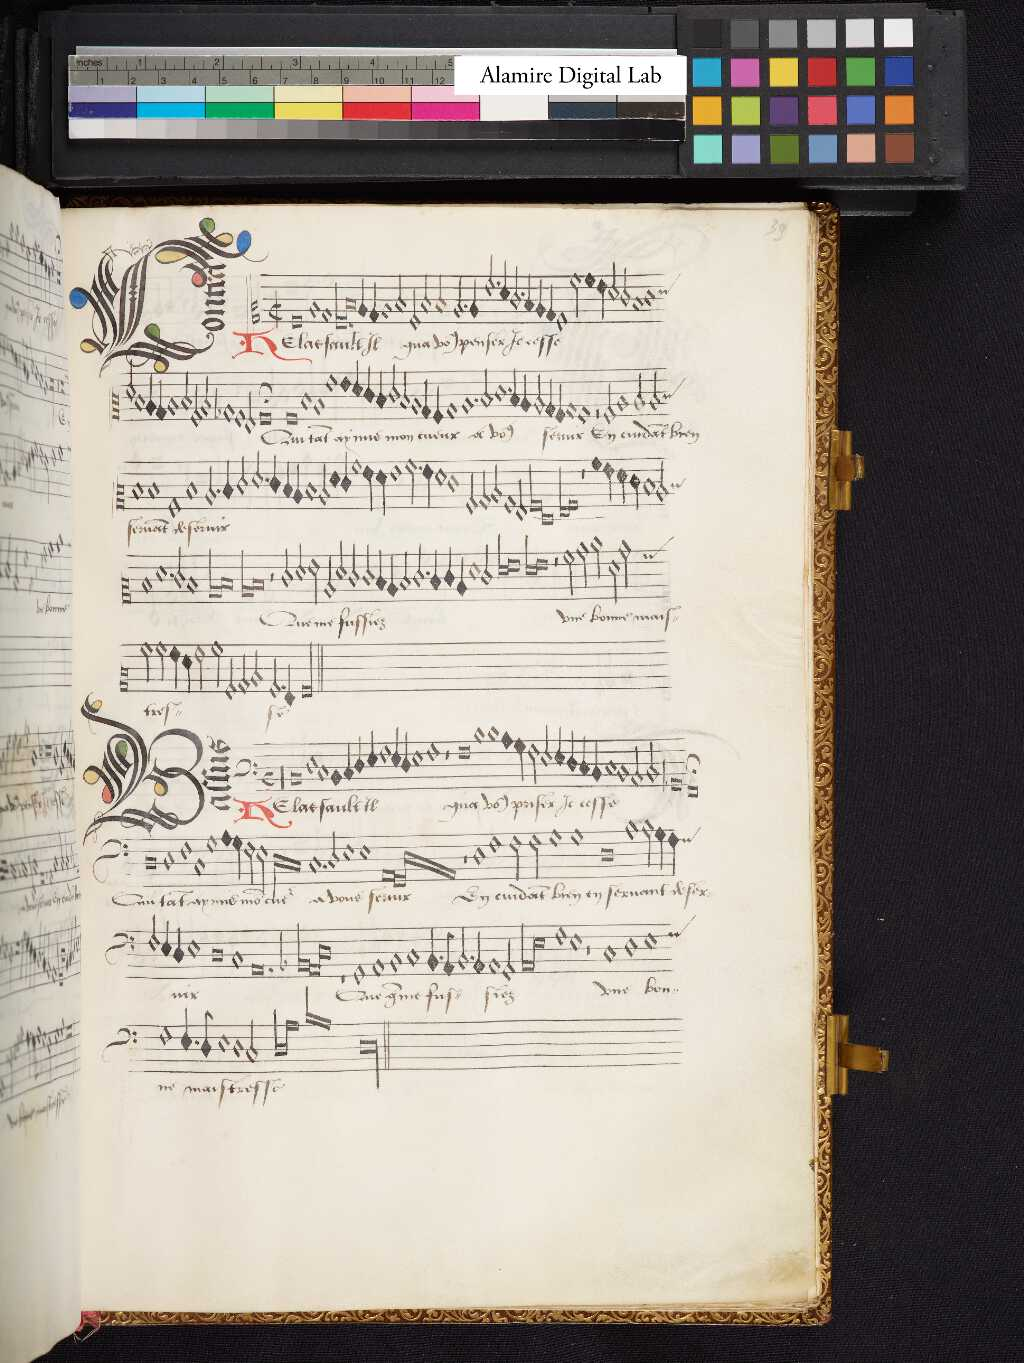Imin: (259, 765, 278, 792)
breve_11: (666, 769, 684, 800)
breve_12: (683, 776, 702, 806)
breve_5: (454, 735, 474, 766)
breve_9: (287, 759, 304, 792)
colored semibreve_3: (499, 721, 512, 755)
colored semibreve_9: (328, 759, 345, 793)
f clef_7: (233, 750, 261, 781)
fermata: (673, 736, 710, 784)
flat_11: (658, 753, 671, 797)
longa rest: (276, 744, 289, 808)
minim_10: (629, 736, 644, 792)
minim_5: (527, 735, 541, 787)
minim_6: (540, 716, 554, 771)
minim_9: (644, 732, 660, 787)
semibreve rest: (442, 725, 454, 787)
semibreve_2: (472, 716, 488, 750), (486, 716, 502, 747)
semibreve_5: (425, 732, 442, 767), (376, 736, 393, 769)
semibreve_6: (411, 741, 426, 772)
semibreve_7: (303, 746, 321, 779)
semibreve_8: (316, 755, 331, 787), (605, 750, 618, 780)
semibreve_9: (615, 754, 631, 787)
semiminim_4: (513, 729, 528, 787)
semiminim_6: (364, 722, 379, 773), (552, 720, 567, 771), (390, 723, 401, 772)
semiminim_7: (399, 725, 412, 780), (565, 723, 578, 777), (352, 728, 365, 779)
semiminim_8: (342, 736, 356, 787), (578, 728, 591, 782)
semiminim_9: (591, 733, 605, 787)
